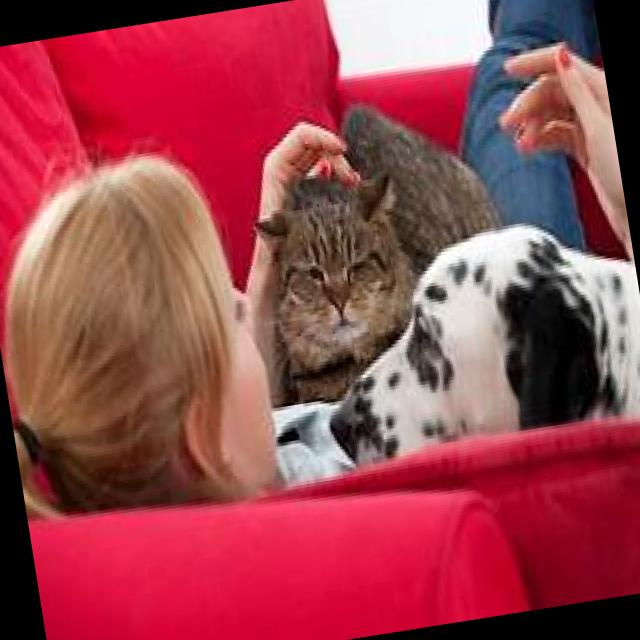animal: (248, 204, 640, 485), (228, 81, 526, 408)
